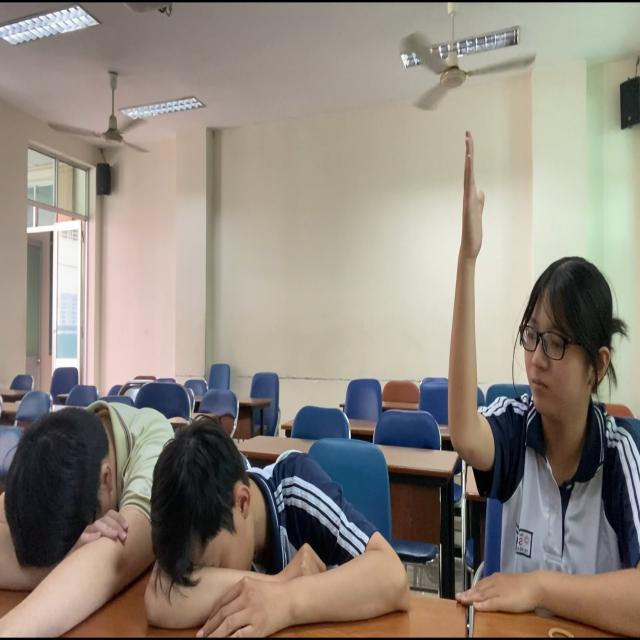raise_hand: (428, 74, 640, 640)
sleep: (134, 418, 443, 640)
